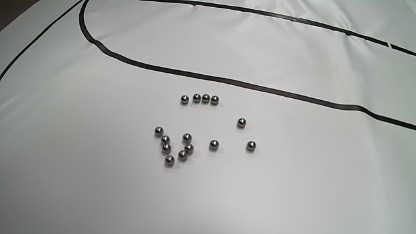ironball: (183, 143, 194, 154), (177, 150, 188, 161), (165, 155, 175, 166), (161, 143, 171, 154), (209, 140, 219, 150), (236, 118, 246, 128), (182, 133, 192, 143), (246, 141, 256, 151), (154, 126, 163, 136), (210, 95, 219, 105), (192, 93, 201, 103), (160, 135, 170, 144), (201, 94, 210, 103), (180, 95, 189, 104)
